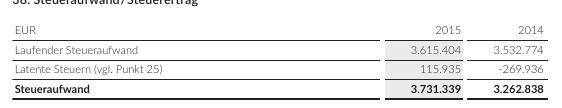table: (0, 0, 562, 108)
